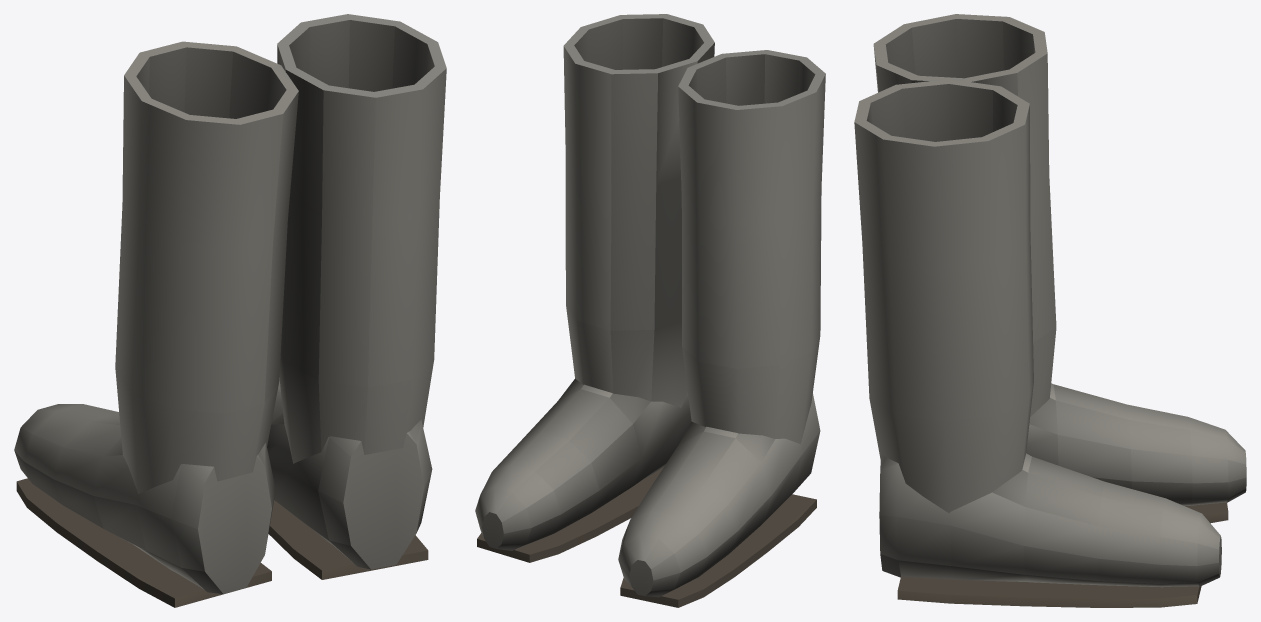
Rendered from felt_boots.glb.
The picture shows the model from 3 angles, left to right: view 1: azimuth 30°, elevation 25°; view 2: azimuth 150°, elevation 25°; view 3: azimuth 270°, elevation 25°; orthographic projection. The views are drawn at different scales.
Visible parts, largest first — view 1: static; view 2: static; view 3: static.
Part boxes in pixels (x1=…): static: x1=14, y1=14, x2=446, y2=607; static: x1=475, y1=14, x2=825, y2=607; static: x1=854, y1=14, x2=1246, y2=607.
Size of the model in its own units: 0.2539 by 0.4237 by 0.3198.
